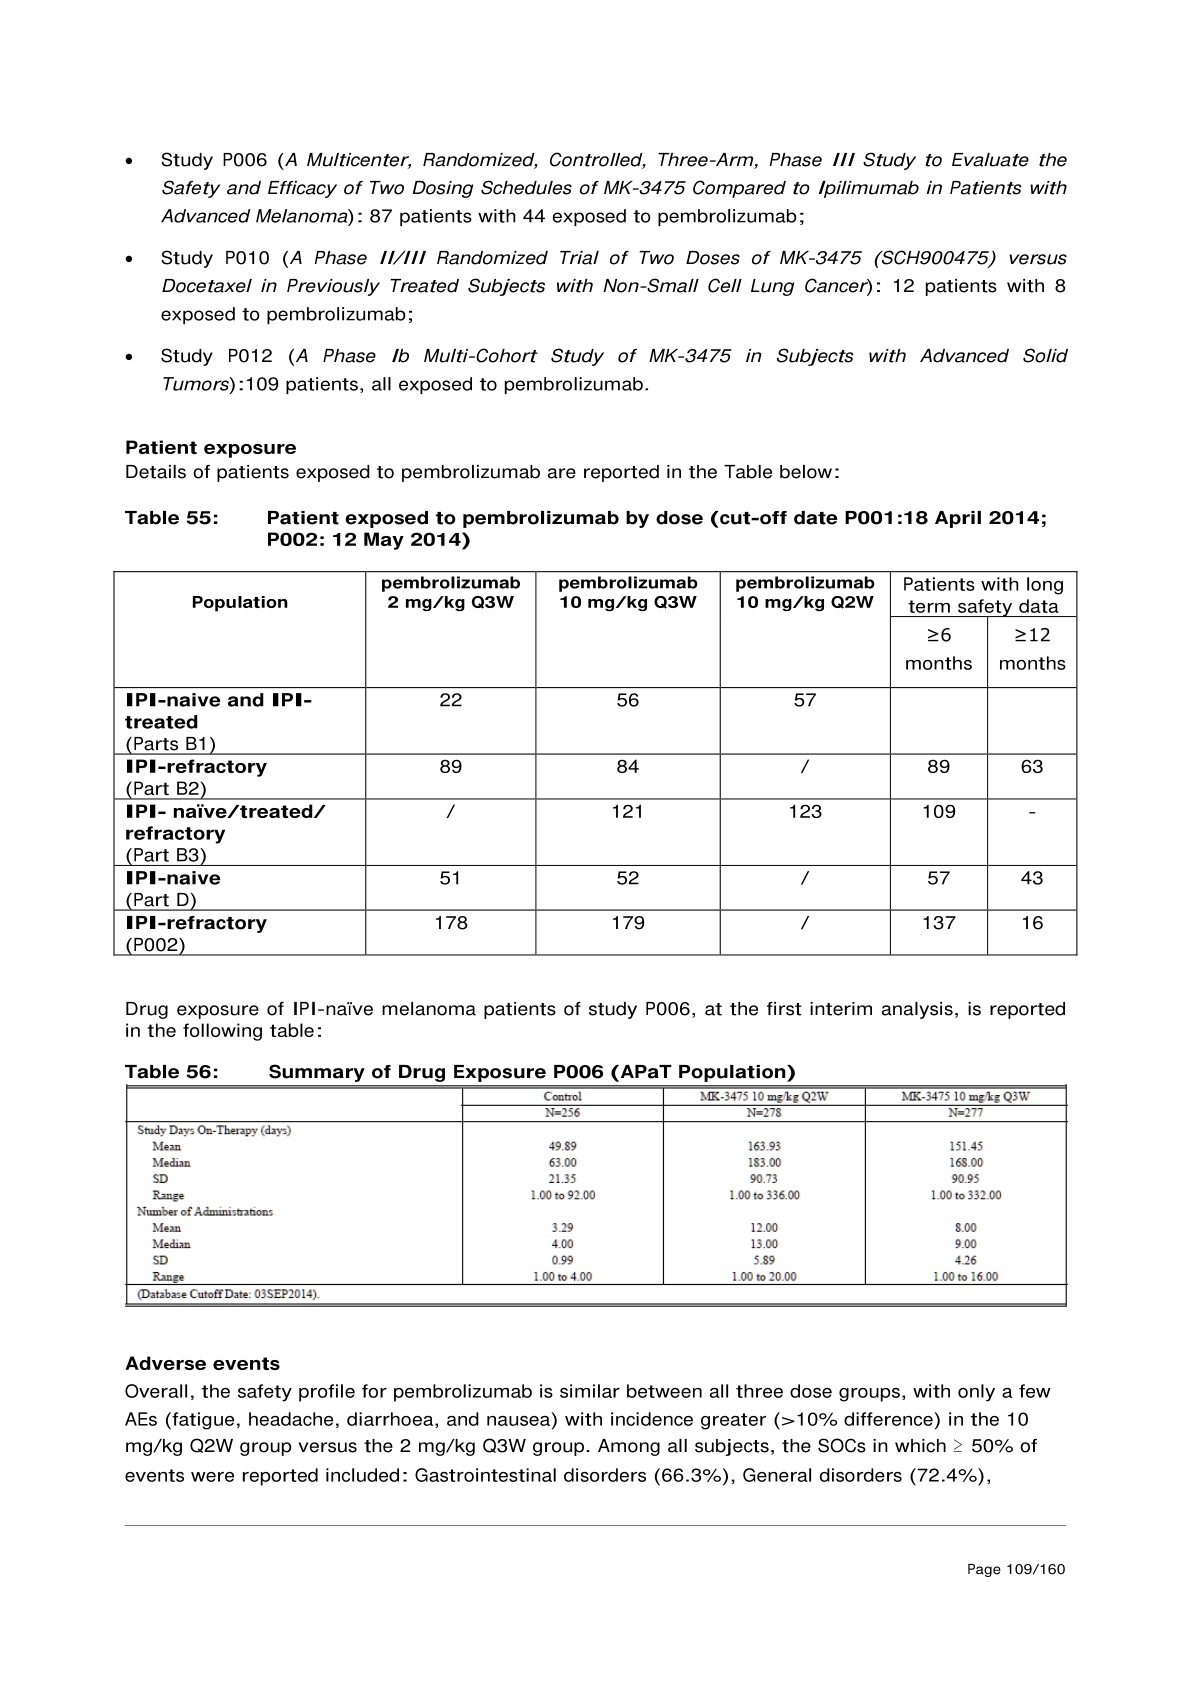merged_cells: (112, 569, 1078, 957)
partial_lined_merged_cells: (125, 1084, 1067, 1306)
